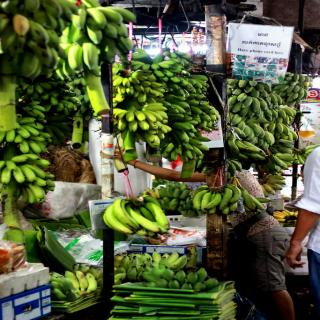Banana: (0, 0, 320, 300), (98, 195, 179, 239)
